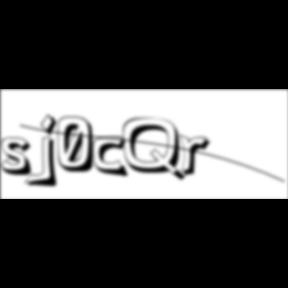0: (58, 115, 102, 174)
Q: (123, 117, 189, 184)
c: (93, 136, 133, 180)
j: (38, 113, 66, 191)
r: (179, 134, 217, 180)
s: (1, 137, 40, 179)
